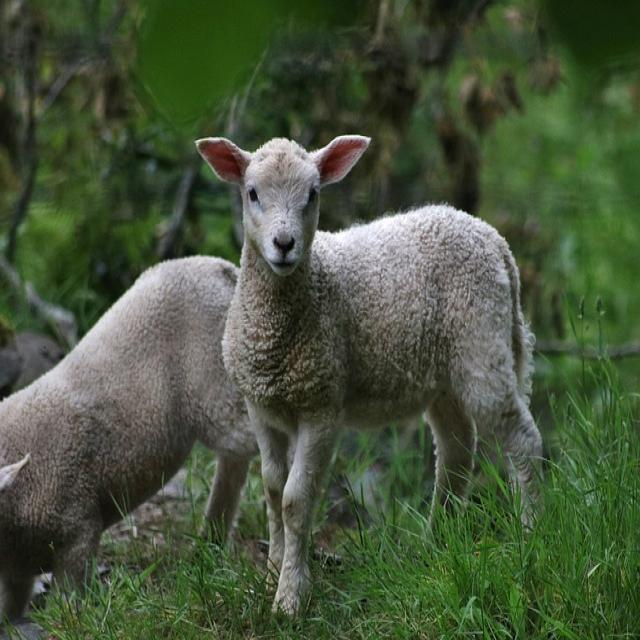goat: (196, 136, 545, 619), (0, 255, 259, 640)
